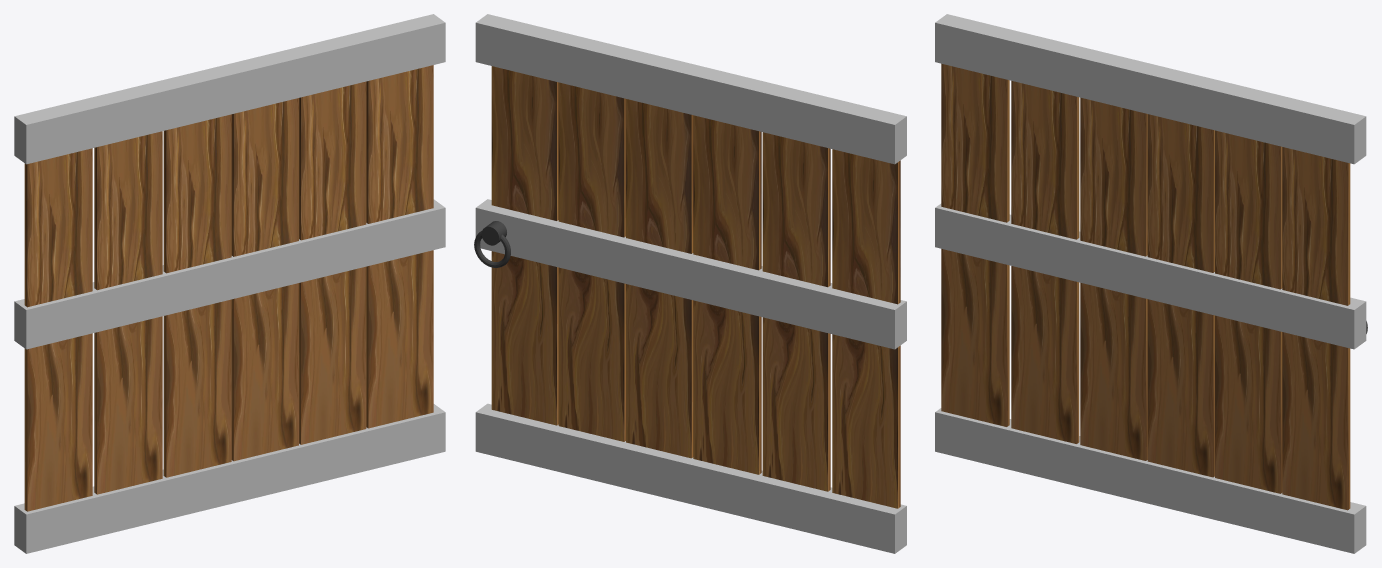
The model's file is Door.fbx.
The picture shows the model from 3 angles, left to right: view 1: azimuth 30°, elevation 25°; view 2: azimuth 150°, elevation 25°; view 3: azimuth 330°, elevation 25°; orthographic projection.
Visible parts, largest first — view 1: polySurface26; view 2: polySurface26; view 3: polySurface26.
Part boxes in pixels (<box>): polySurface26: <box>14,14,445,553</box>; polySurface26: <box>474,14,906,553</box>; polySurface26: <box>935,14,1367,553</box>.
Size of the model in its own units: 10.02 by 9.79 by 0.8214.
